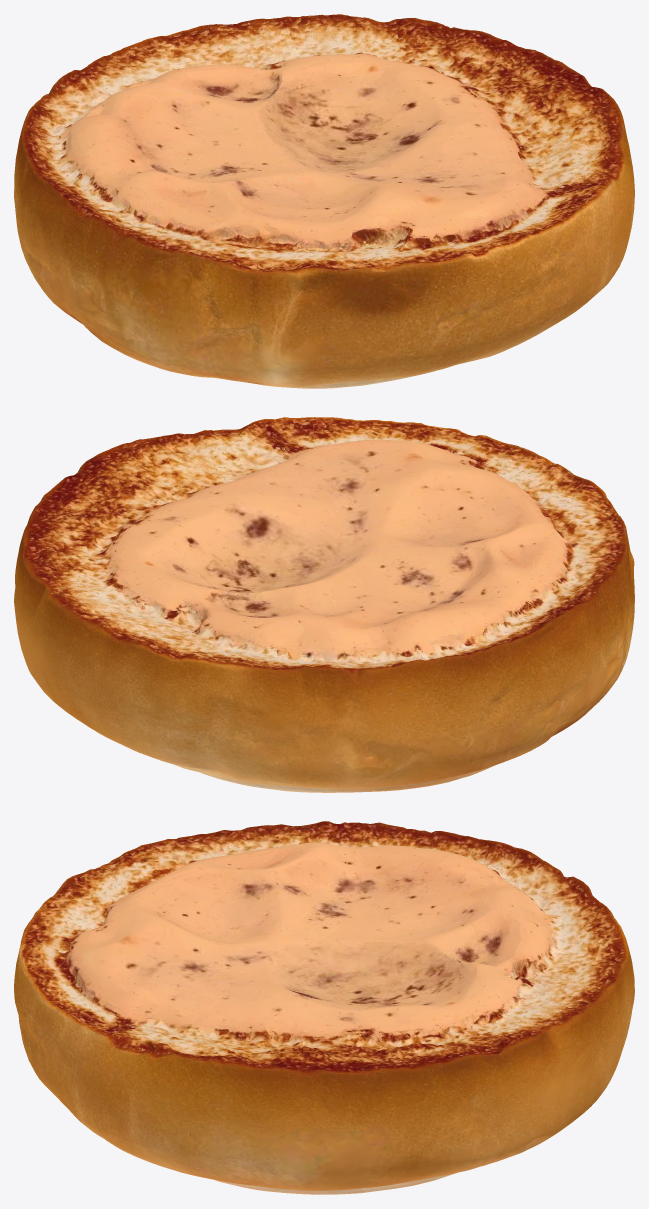
File: bun_bottom.glb
3 renders of one model, top to bottom at view 1: azimuth 30°, elevation 25°; view 2: azimuth 150°, elevation 25°; view 3: azimuth 270°, elevation 25°, orthographic.
Parts seen in each view (by area): view 1: Mesh_0; view 2: Mesh_0; view 3: Mesh_0.
Part boxes in pixels (x1,y1,x2,y2): Mesh_0: (14, 14, 634, 388); Mesh_0: (14, 417, 634, 792); Mesh_0: (14, 821, 634, 1194).
Bounding box in the file's own units: 1.89 × 0.6033 × 1.9.
Materials: 1 (1 with a texture image).
